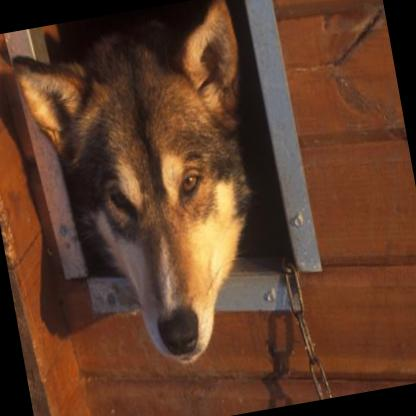Eskimo_dog: (5, 0, 287, 383)
